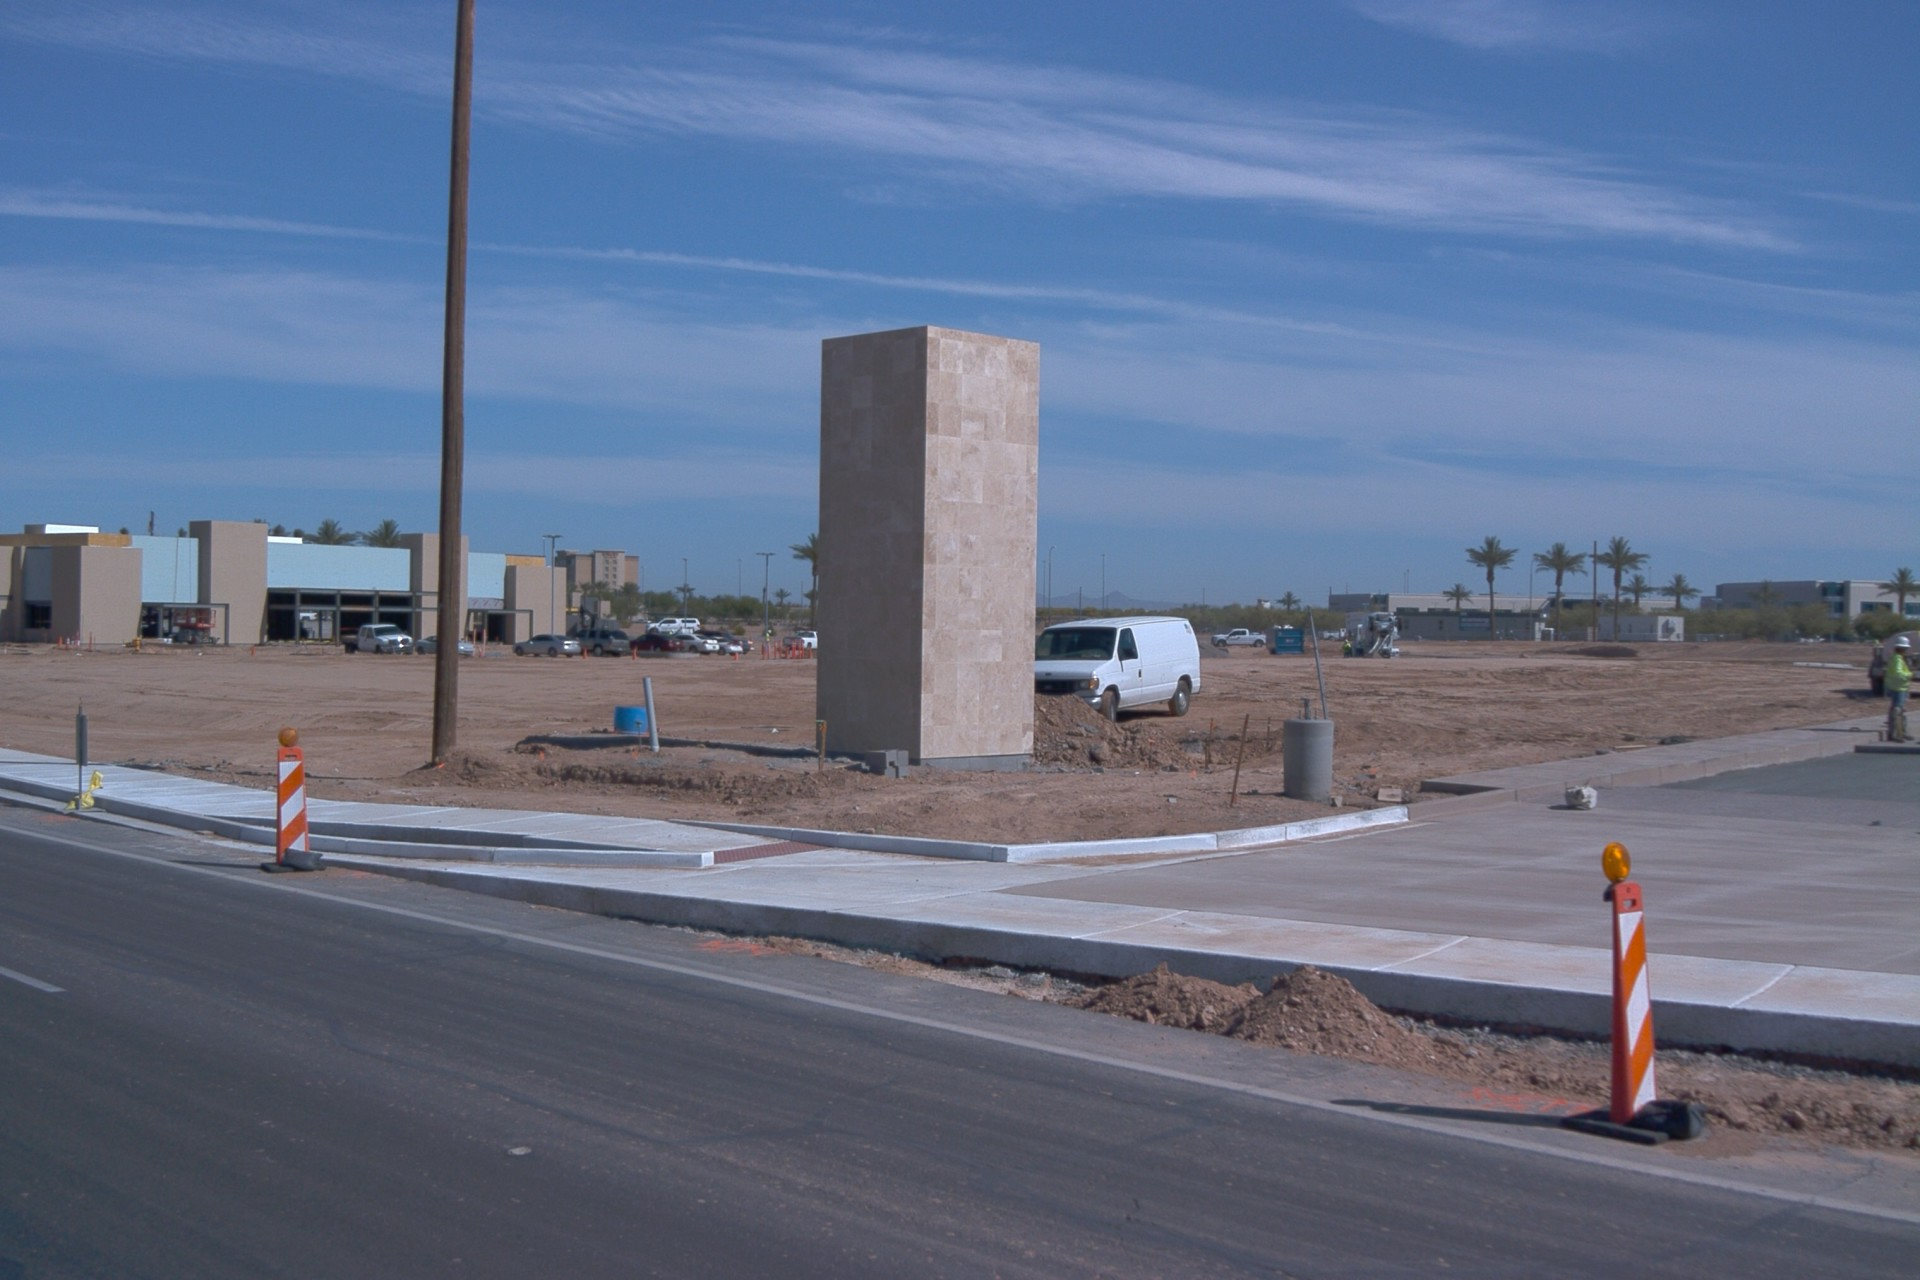TYPE_PEDESTRIAN: (1882, 634, 1920, 744), (1341, 636, 1352, 658), (764, 627, 772, 653)
TYPE_VEHICLE: (1034, 618, 1201, 726), (1866, 627, 1920, 701), (1347, 610, 1403, 662), (337, 624, 413, 657), (569, 624, 635, 657), (511, 631, 582, 658), (695, 627, 752, 653), (627, 630, 688, 654), (415, 633, 477, 655), (1212, 630, 1269, 651), (674, 629, 718, 652), (649, 619, 702, 638), (779, 629, 819, 652), (714, 633, 747, 655), (1320, 630, 1345, 643), (668, 627, 694, 639), (299, 614, 317, 624)
